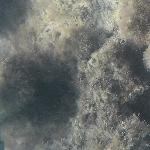dead: (13, 6, 138, 141)
